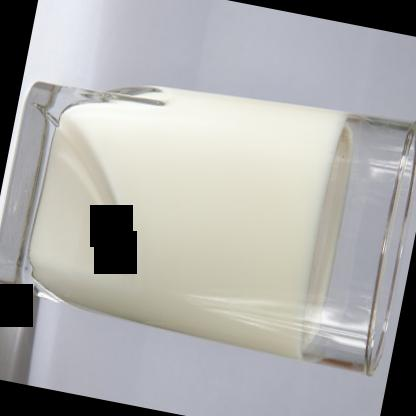milk: (0, 39, 415, 384)
